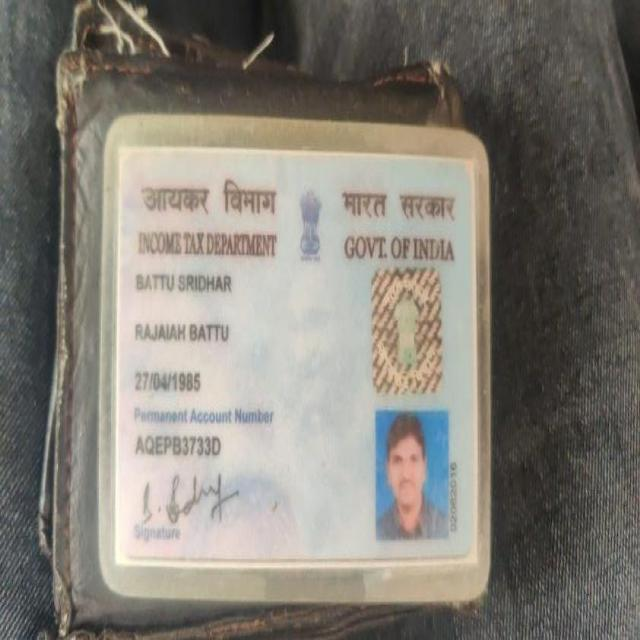pan_card: (119, 155, 479, 559)
